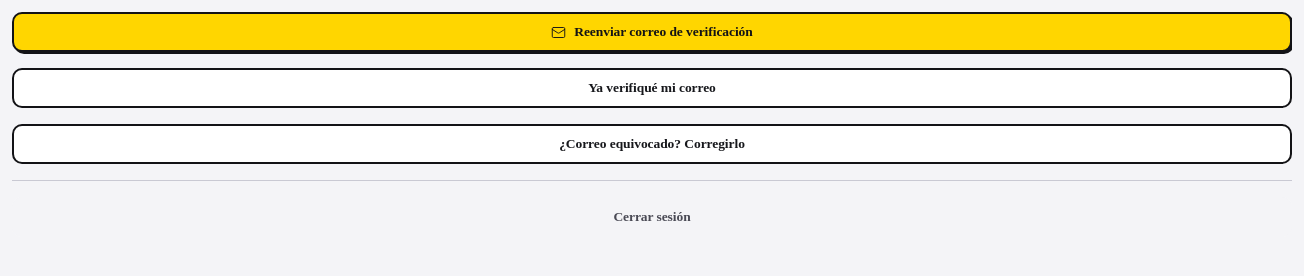
Test: ActivationPage — correcting a mistyped email (#1245) › answers a resend directly, not with the anonymous-form sentence (REG-12)
Click the button "Reenviar correo de verificación": (652, 32) x1=12 y1=12 x2=1292 y2=52
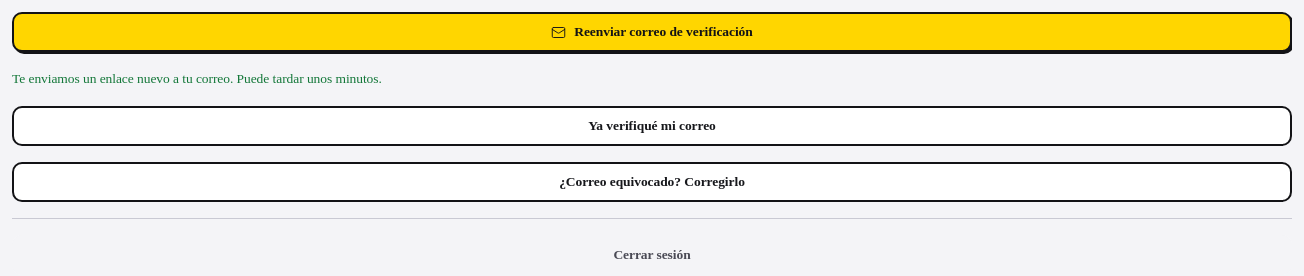
Now the message reads "Te enviamos un enlace nuevo a tu correo. Puede tardar unos minutos.", box x1=12 y1=71 x2=382 y2=86
